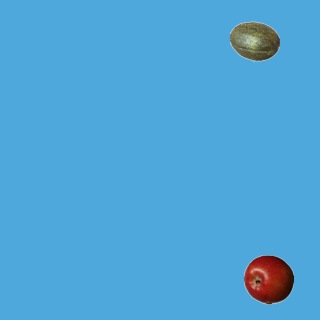Apple Braeburn: (243, 254, 293, 304)
Melon Piel de Sapo: (229, 16, 279, 66)
